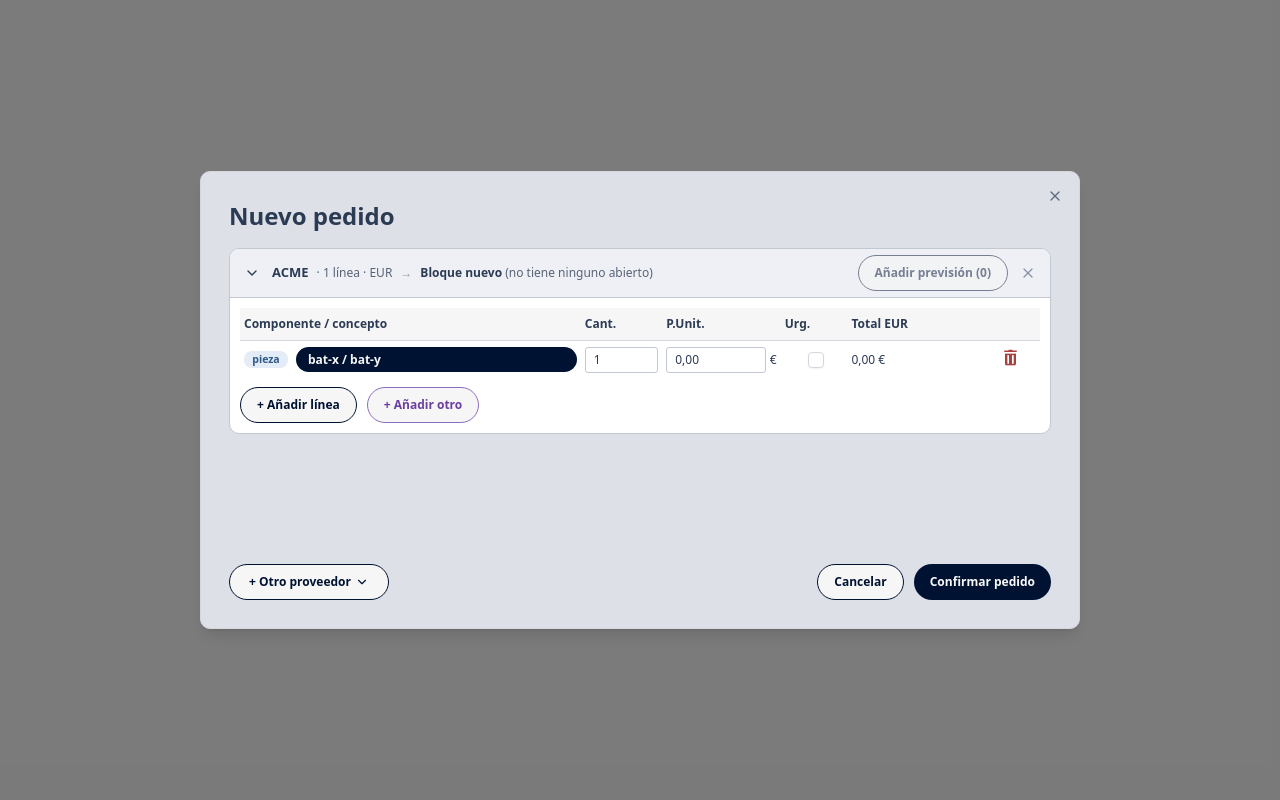
Test case: NuevoPedidoDialog › "Pedir" (un componente): va al recuadro de ACME, el único que la vende, con cantidad 1, precio 0,00 y sin urgente; "+ Añadir línea" añade una vacía en ese recua
Expected: the dropdown named "Componente línea 1" holds "bat-x / bat-y", [296,347,577,372]
Expected: the field named "Cantidad línea 1" holds "1", [585,346,658,372]
Click the button "+ Añadir línea" at {"x": 298, "y": 404}, box [240,386,357,422]
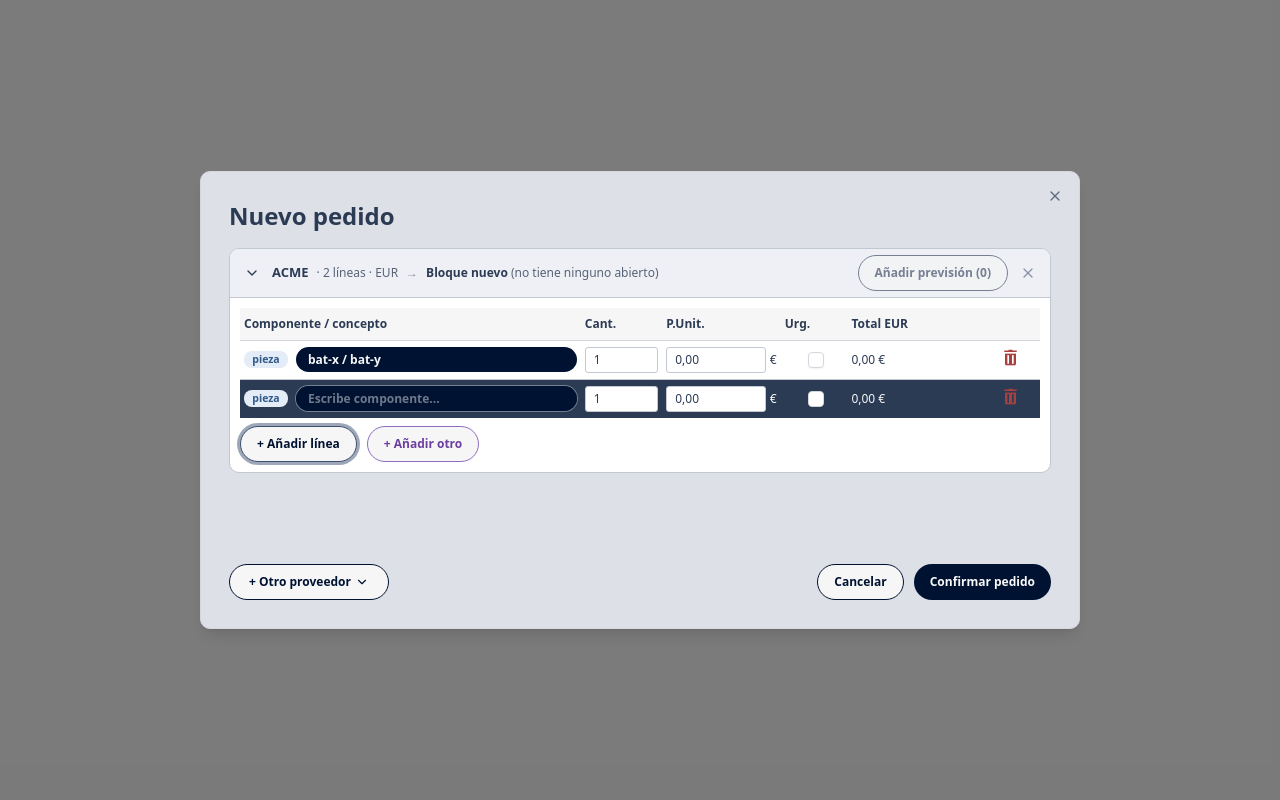
Now the dropdown named "Componente línea 2" is empty, box [296,386,577,411]
Now the field named "Cantidad línea 2" holds "1", box [585,386,658,412]
Now the field named "Precio línea 2" holds "0,00", box [666,386,766,412]
